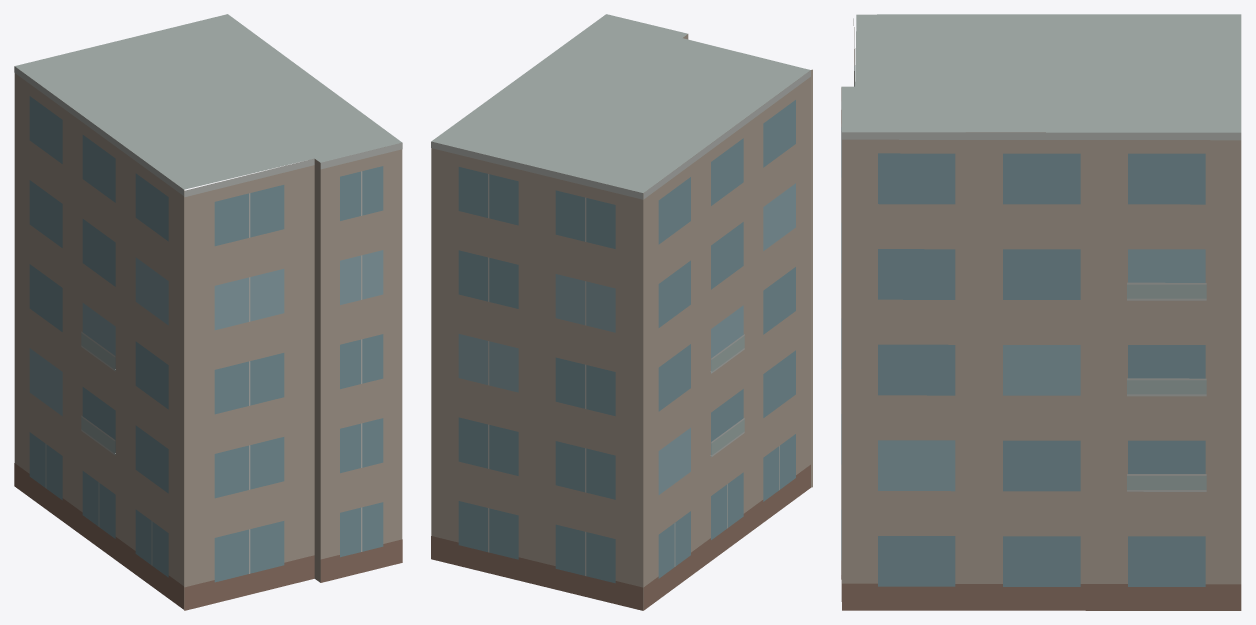
Rendered from survey-upis-32777532.glb.
The picture shows the model from 3 angles, left to right: view 1: azimuth 30°, elevation 25°; view 2: azimuth 150°, elevation 25°; view 3: azimuth 270°, elevation 25°; orthographic projection. The views are drawn at different scales.
Parts seen in each view (by area): view 1: survey-upis-32777532.tmp; view 2: survey-upis-32777532.tmp; view 3: survey-upis-32777532.tmp.
Boxes of the visible parts, x1,y1,x2,y2 form: survey-upis-32777532.tmp: (14,14,402,610); survey-upis-32777532.tmp: (431,14,812,610); survey-upis-32777532.tmp: (841,14,1241,610).
Bounding box in the file's own units: 8.31 × 15.5 × 11.76.
